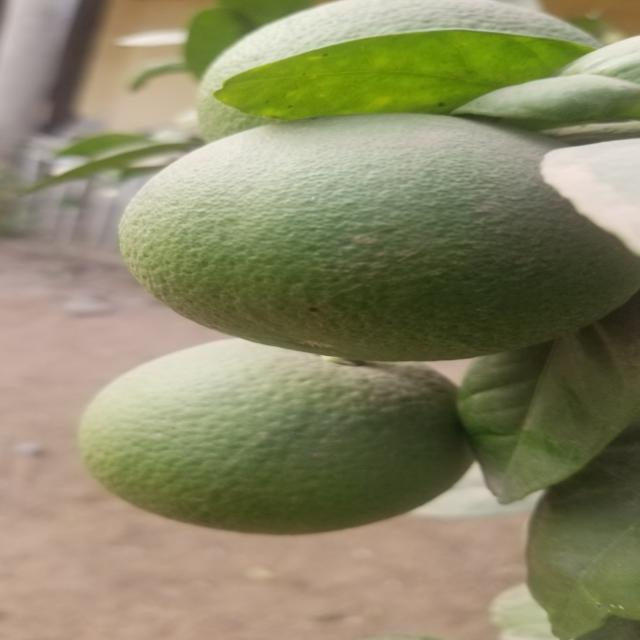Unripe: (117, 115, 640, 352), (66, 338, 483, 535), (183, 2, 627, 133)
